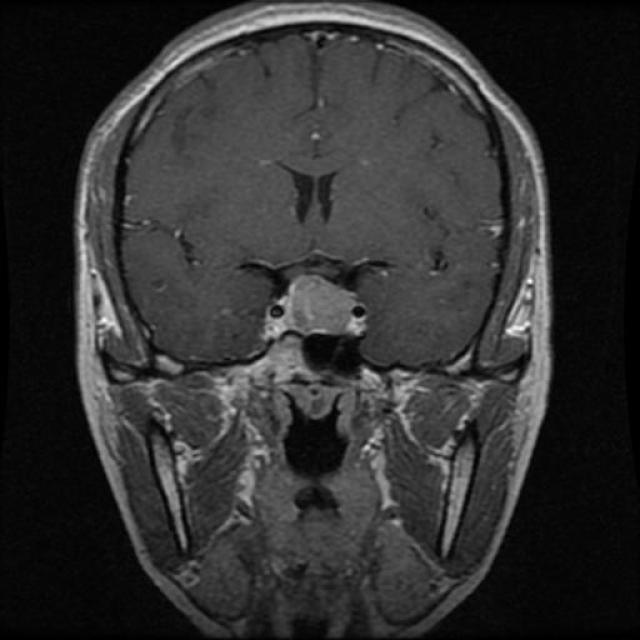pituitary: (268, 264, 375, 347)
